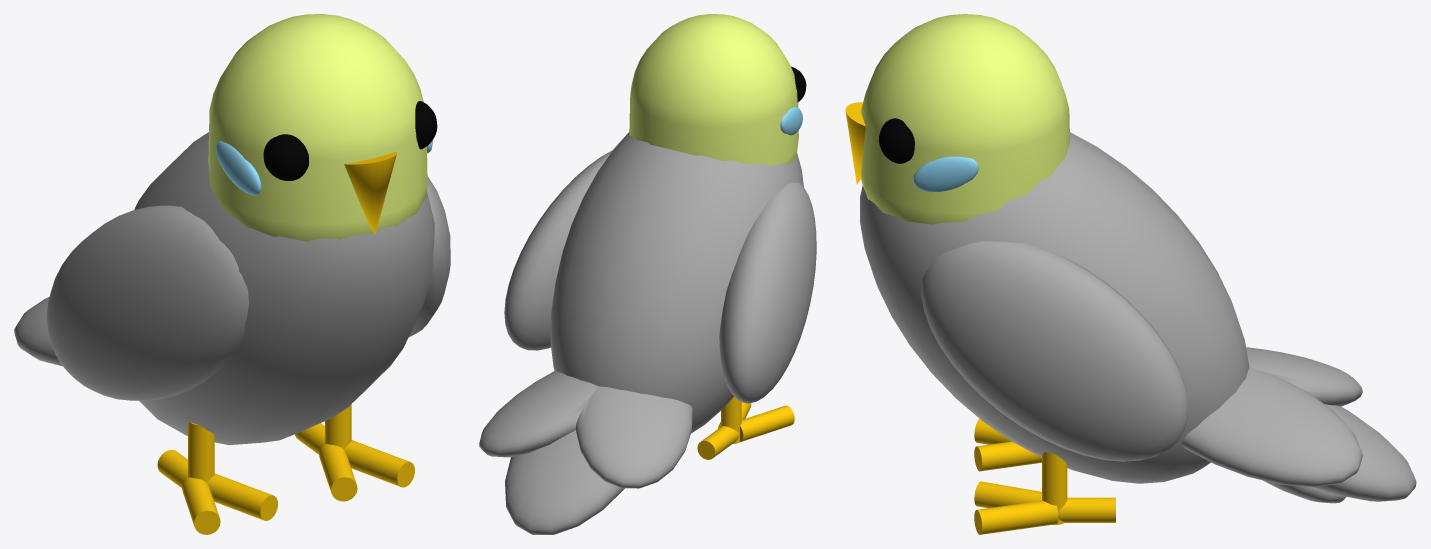
File: Bird.fbx
3 views of the same model, side by side, from view 1: azimuth 30°, elevation 25°; view 2: azimuth 150°, elevation 25°; view 3: azimuth 270°, elevation 25° (orthographic). The views are drawn at different scales.
Visible parts, largest first — view 1: pSphere1, pSphere2, pasted__pasted__pSphere1, pasted__pasted__pCylinder1 (×3), pasted__pCylinder1 (×3), pSphere3, pCone1, pasted__pasted__pasted__pCylinder1, pasted__pasted__pSphere4, pCylinder1, pSphere5; view 2: pSphere1, pasted__pasted__pSphere1, pSphere2, pasted__pasted__pSphere4, pSphere4, pasted__pCylinder1 (×2), pCylinder1, pSphere5; view 3: pSphere1, pasted__pasted__pSphere1, pSphere2, pasted__pasted__pSphere4, pSphere4, pasted__pasted__pCylinder1 (×3), pasted__pasted__pasted__pCylinder1, pSphere5, pasted__pCylinder1, pSphere3, pCone1, pasted__pSphere4.
Part boxes in pixels (x1,y1,x2,y2): pSphere1: [134, 132, 434, 445]; pSphere2: [208, 14, 427, 241]; pasted__pasted__pSphere1: [46, 176, 450, 400]; pasted__pasted__pCylinder1 (×3): [207, 423, 357, 520]; pasted__pCylinder1 (×3): [157, 404, 351, 534]; pSphere3: [263, 101, 437, 180]; pCone1: [344, 151, 396, 234]; pasted__pasted__pasted__pCylinder1: [344, 440, 414, 487]; pasted__pasted__pSphere4: [14, 297, 62, 366]; pCylinder1: [188, 422, 214, 482]; pSphere5: [216, 140, 432, 195]; pSphere1: [550, 132, 803, 433]; pasted__pasted__pSphere1: [504, 150, 816, 403]; pSphere2: [629, 14, 798, 165]; pasted__pasted__pSphere4: [479, 370, 692, 488]; pSphere4: [505, 430, 624, 534]; pasted__pCylinder1 (×2): [697, 405, 794, 459]; pCylinder1: [721, 396, 741, 443]; pSphere5: [780, 107, 802, 135]; pSphere1: [860, 132, 1249, 483]; pasted__pasted__pSphere1: [921, 241, 1188, 461]; pSphere2: [861, 14, 1069, 224]; pasted__pasted__pSphere4: [1182, 347, 1362, 487]; pSphere4: [1313, 404, 1416, 501]; pasted__pasted__pCylinder1 (×3): [974, 441, 1115, 522]; pasted__pasted__pasted__pCylinder1: [974, 500, 1058, 534]; pSphere5: [913, 156, 978, 192]; pasted__pCylinder1: [1042, 452, 1067, 524]; pSphere3: [879, 118, 914, 163]; pCone1: [845, 102, 865, 184]; pasted__pSphere4: [1263, 480, 1345, 503].
Size of the model in its own units: 2.47 by 3.49 by 3.8.
